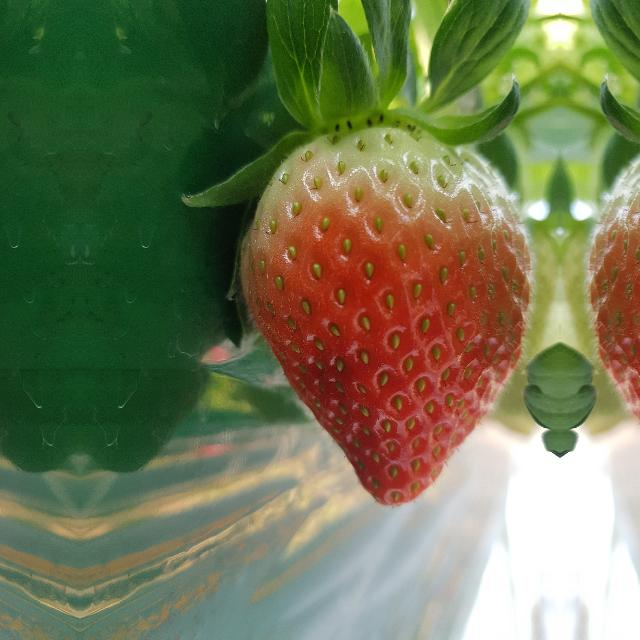Health_100: (237, 126, 535, 508)
